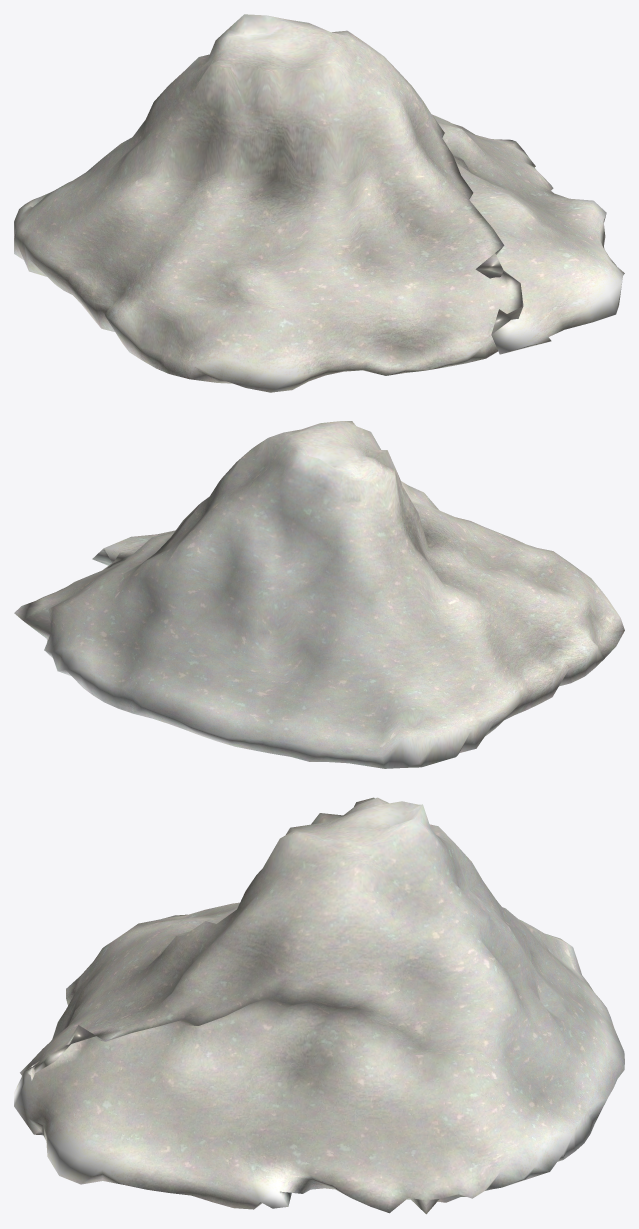
File: 5.Heroin.fbx
3 renders of one model, top to bottom at view 1: azimuth 30°, elevation 25°; view 2: azimuth 150°, elevation 25°; view 3: azimuth 270°, elevation 25°, orthographic. The views are drawn at different scales.
Parts seen in each view (by area): view 1: LP.001_Cube.003; view 2: LP.001_Cube.003; view 3: LP.001_Cube.003.
Boxes of the visible parts, x1,y1,x2,y2 form: LP.001_Cube.003: (14, 14, 624, 392); LP.001_Cube.003: (14, 421, 624, 768); LP.001_Cube.003: (14, 797, 624, 1214).
Bounding box in the file's own units: 390 × 181 × 371.
